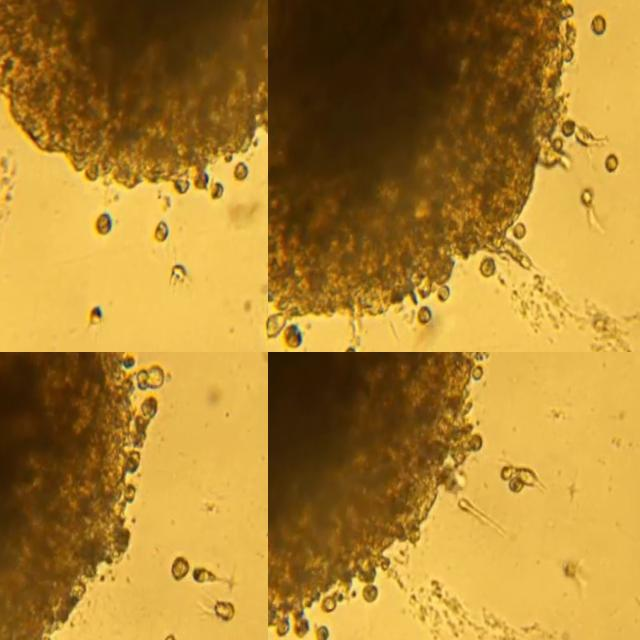cell: (453, 506, 499, 542), (495, 474, 541, 500), (277, 327, 295, 351), (189, 577, 216, 593), (86, 214, 105, 236), (208, 608, 229, 627), (587, 20, 604, 43), (599, 157, 615, 181), (165, 565, 184, 585), (227, 164, 243, 186), (472, 264, 490, 283), (257, 321, 268, 352), (146, 375, 162, 395), (164, 267, 179, 288), (202, 184, 218, 203), (506, 227, 522, 246), (148, 224, 162, 245), (573, 197, 589, 215), (411, 308, 425, 328), (134, 376, 146, 397), (82, 308, 95, 326), (432, 291, 444, 305), (309, 629, 322, 640), (337, 345, 350, 352)
tumor_mass: (268, 0, 602, 340), (268, 352, 485, 640)
